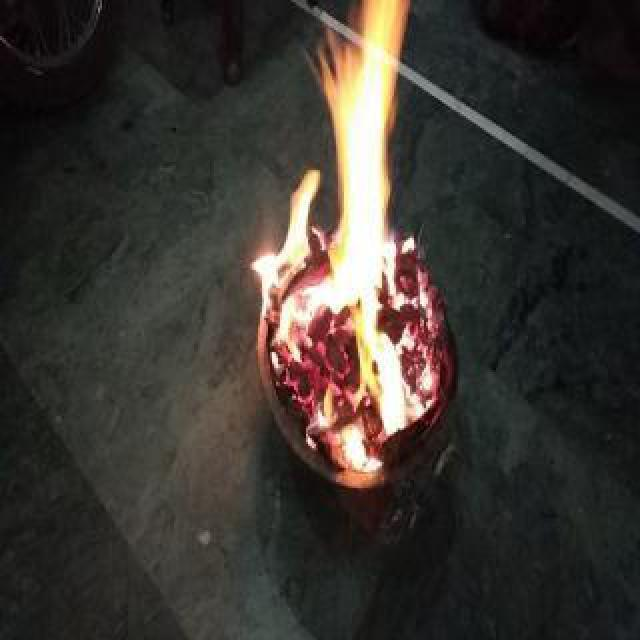Fire: (256, 2, 428, 440)
